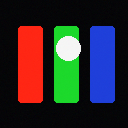2 circle: (56, 36, 80, 60)
